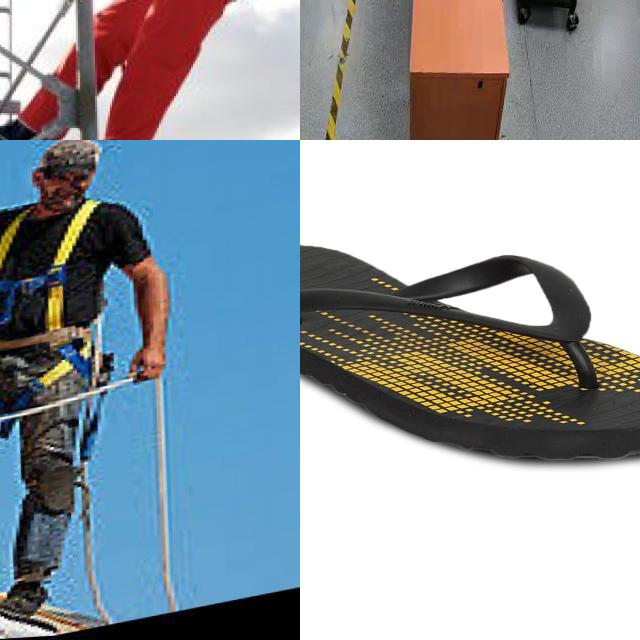Harness: (0, 200, 103, 333)
Sandals: (300, 242, 640, 462)
